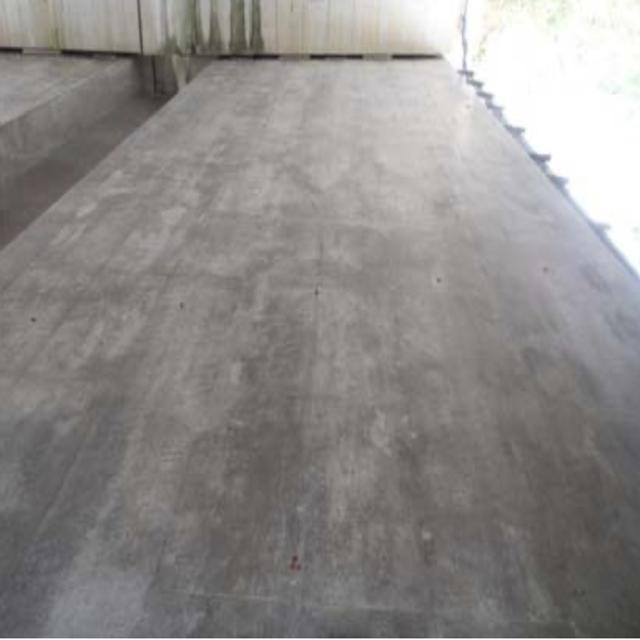leakage: (157, 6, 309, 73)
